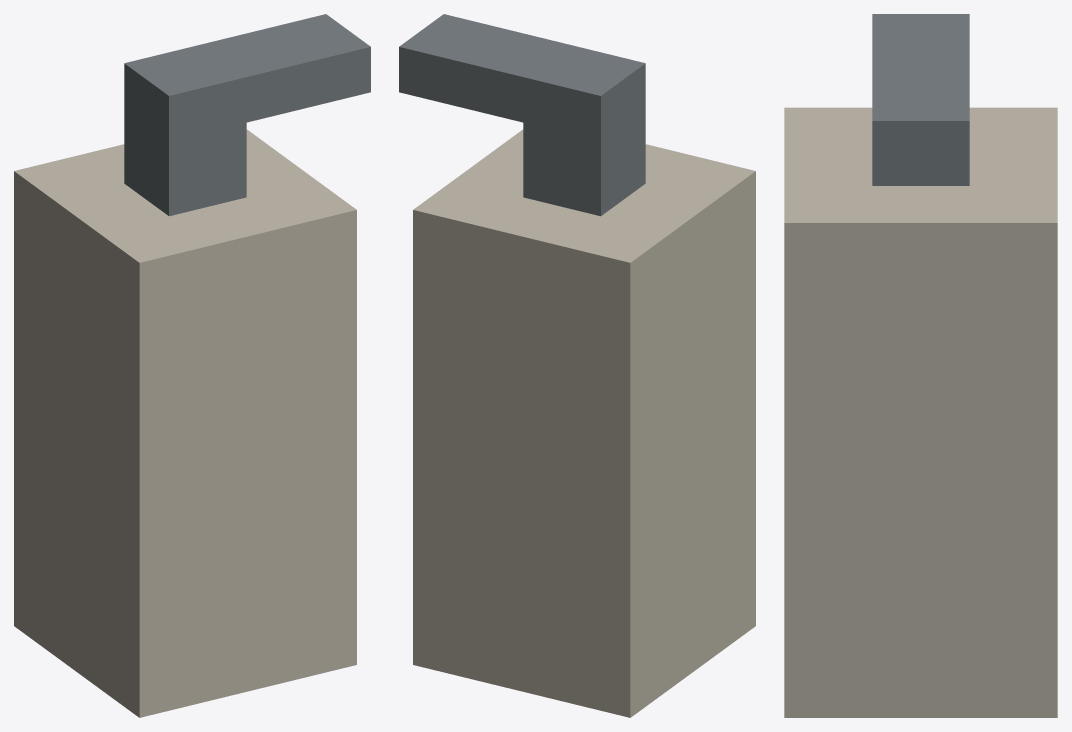
The model's file is soap_dispenser.glb.
3 views of the same model, side by side, from view 1: azimuth 30°, elevation 25°; view 2: azimuth 150°, elevation 25°; view 3: azimuth 270°, elevation 25° (orthographic). The views are drawn at different scales.
Visible parts, largest first — view 1: body; view 2: body; view 3: body.
Part boxes in pixels (x1=…): body: x1=14, y1=14, x2=370, y2=717; body: x1=399, y1=14, x2=755, y2=717; body: x1=784, y1=14, x2=1057, y2=717.
Size of the model in its own units: 0.0875 by 0.177 by 0.07.
